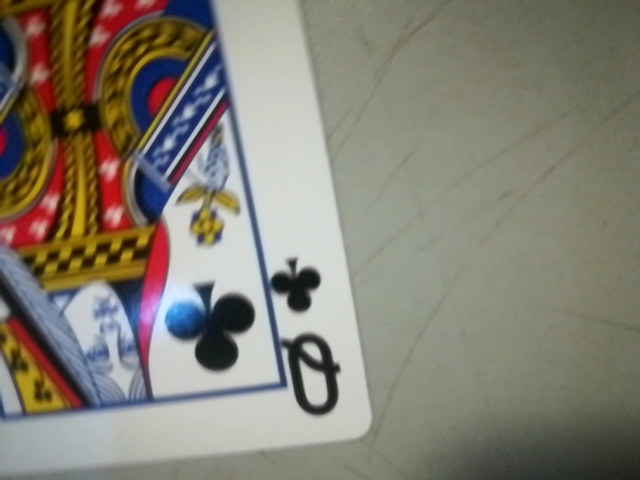mh q: (259, 244, 362, 434)
